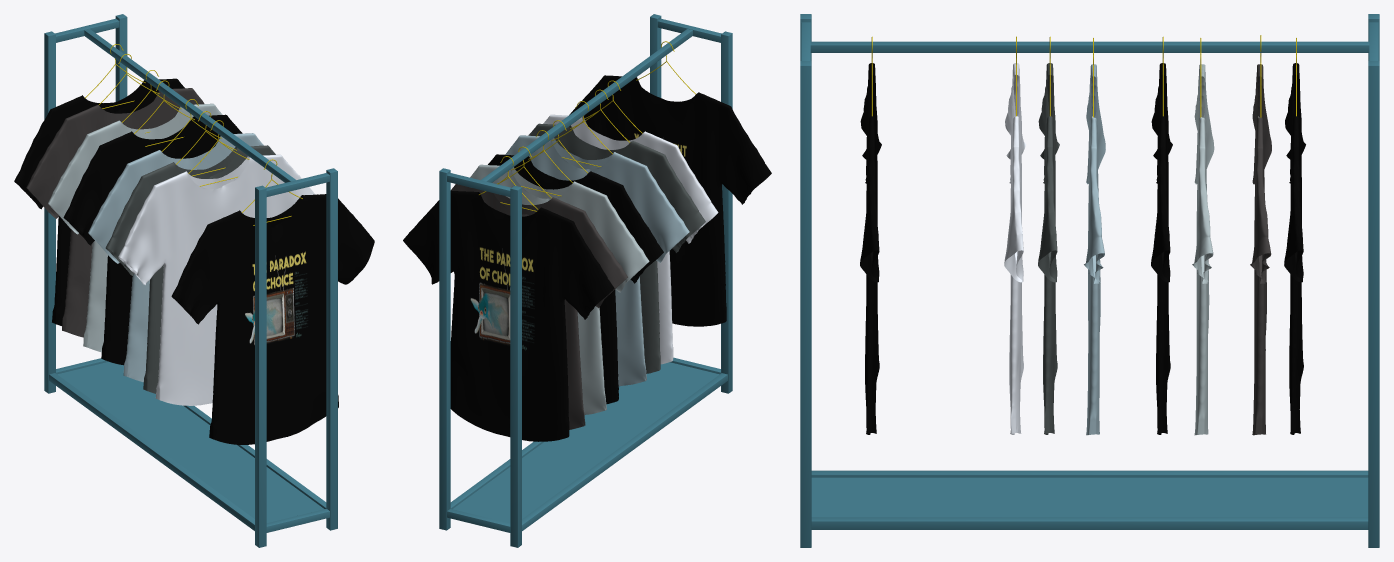
Rendered from tshirts_draco.glb.
3 renders of one model, left to right at view 1: azimuth 30°, elevation 25°; view 2: azimuth 150°, elevation 25°; view 3: azimuth 270°, elevation 25°, orthographic. The views are drawn at different scales.
Parts seen in each view (by area): view 1: 8nights.002, paradox.001, Box001, camiseta pie004_08 - Default_0, camiseta pie001_08 - Default_0, camiseta pie005_08 - Default_0, camiseta pie002_08 - Default_0, camiseta pie006_08 - Default_0, camiseta pie_08 - Default_0, ChamferBox001, ChamferBox002, ChamferBox008 (+7 smaller); view 2: camiseta pie_08 - Default_0, 8nights.002, Box001, camiseta pie005_08 - Default_0, camiseta pie002_08 - Default_0, camiseta pie006_08 - Default_0, camiseta pie004_08 - Default_0, camiseta pie001_08 - Default_0, ChamferBox008, ChamferBox009, paradox.001, ChamferBox001 (+7 smaller); view 3: Box001, ChamferBox007, ChamferBox005, ChamferBox002, ChamferBox009, camiseta pie004_08 - Default_0, camiseta pie001_08 - Default_0, 8nights.002, camiseta pie006_08 - Default_0, camiseta pie002_08 - Default_0, camiseta pie005_08 - Default_0, paradox.001 (+2 smaller).
Part boxes in pixels (box(x1,y1,x2,y2)): 8nights.002: box(171, 194, 374, 444); paradox.001: box(118, 154, 315, 405); Box001: box(57, 362, 324, 522); camiseta pie004_08 - Default_0: box(63, 114, 242, 365); camiseta pie001_08 - Default_0: box(26, 88, 204, 337); camiseta pie005_08 - Default_0: box(88, 133, 263, 382); camiseta pie002_08 - Default_0: box(48, 103, 222, 352); camiseta pie006_08 - Default_0: box(105, 145, 275, 393); camiseta pie_08 - Default_0: box(14, 78, 184, 325); ChamferBox001: box(255, 185, 266, 547); ChamferBox002: box(326, 168, 337, 530); ChamferBox008: box(44, 31, 55, 393); camiseta pie_08 - Default_0: box(403, 190, 614, 441); 8nights.002: box(569, 75, 771, 326); Box001: box(453, 362, 719, 523); camiseta pie005_08 - Default_0: box(505, 135, 689, 386); camiseta pie002_08 - Default_0: box(470, 164, 649, 414); camiseta pie006_08 - Default_0: box(528, 123, 705, 373); camiseta pie004_08 - Default_0: box(488, 154, 663, 404); camiseta pie001_08 - Default_0: box(451, 184, 627, 429); ChamferBox008: box(510, 185, 521, 547); ChamferBox009: box(439, 168, 450, 530); paradox.001: box(543, 114, 718, 364); ChamferBox001: box(721, 31, 732, 393); Box001: box(811, 477, 1368, 517); ChamferBox007: box(811, 517, 1368, 529); ChamferBox005: box(810, 41, 1369, 52); ChamferBox002: box(800, 61, 811, 547); ChamferBox009: box(1368, 61, 1379, 547); camiseta pie004_08 - Default_0: box(1151, 63, 1172, 434); camiseta pie001_08 - Default_0: box(1250, 64, 1271, 435); 8nights.002: box(860, 63, 881, 434); camiseta pie006_08 - Default_0: box(1038, 63, 1059, 434); camiseta pie002_08 - Default_0: box(1192, 64, 1214, 435); camiseta pie005_08 - Default_0: box(1084, 64, 1105, 435); paradox.001: box(1004, 63, 1026, 434).
Bounding box in the file's own units: 66.69 × 111 × 120.
Materials: 10 (3 with a texture image).
